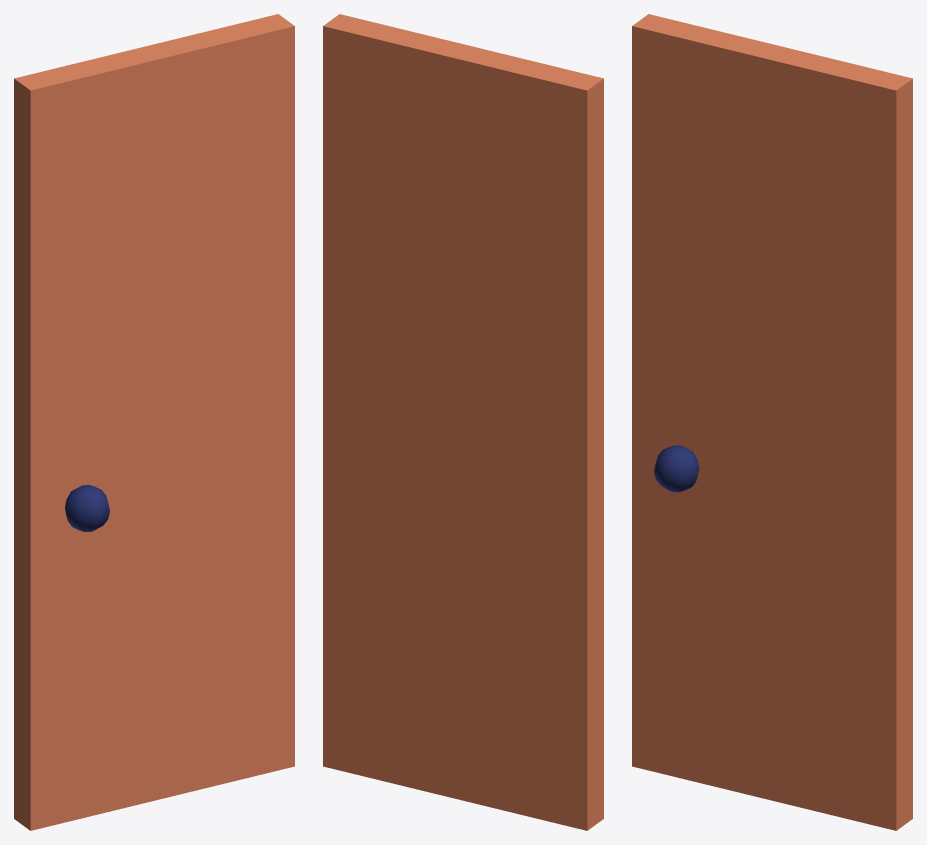
File: CLOSET RIGHT DOOR.fbx
3 views of the same model, side by side, from view 1: azimuth 30°, elevation 25°; view 2: azimuth 150°, elevation 25°; view 3: azimuth 330°, elevation 25° (orthographic).
Visible parts, largest first — view 1: Top door right, Sphere.001; view 2: Top door right; view 3: Top door right, Sphere.001.
Part boxes in pixels (<box>): Top door right: <box>14,14,294,830</box>; Sphere.001: <box>65,485,109,531</box>; Top door right: <box>323,14,603,830</box>; Top door right: <box>632,14,912,830</box>; Sphere.001: <box>654,445,699,492</box>.
Bounding box in the file's own units: 194 × 520 × 43.47.
